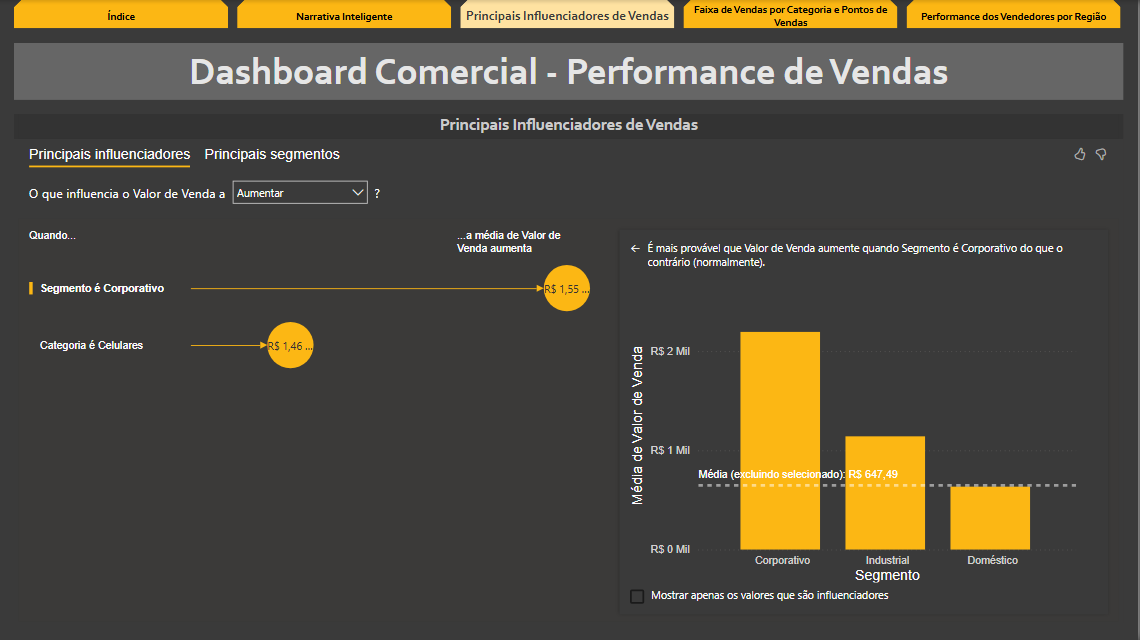

What the dashboard file says about the page in this screenshot:
{"tool":"powerbi","page":{"name":"Principais Influenciadores de Vendas","canvas":[1280,720],"ordinal":2},"visuals":[{"type":"textbox","box":[16,48,1248,64],"z":1000},{"type":"keyDriversVisual","title":"Principais Influenciadores de Vendas","fields":{"Target":["Vendas.ValorVenda"],"ExplainBy":["Vendas.Segmento","Vendas.Categoria"]},"box":[16,128,1248,576],"z":2000},{"type":"pageNavigator","box":[16,0,1248,32],"z":3000}]}

Visuals, with their boxes on the page's 1280x720 design canvas (x1, y1, x2, y2). These are canvas units, not pixel positions in the 1140x640 screenshot, which may show the page scaled, cropped or inside an application window:
textbox: crop(16, 48, 1264, 112)
"Principais Influenciadores de Vendas" keyDriversVisual: crop(16, 128, 1264, 704)
pageNavigator: crop(16, 0, 1264, 32)
